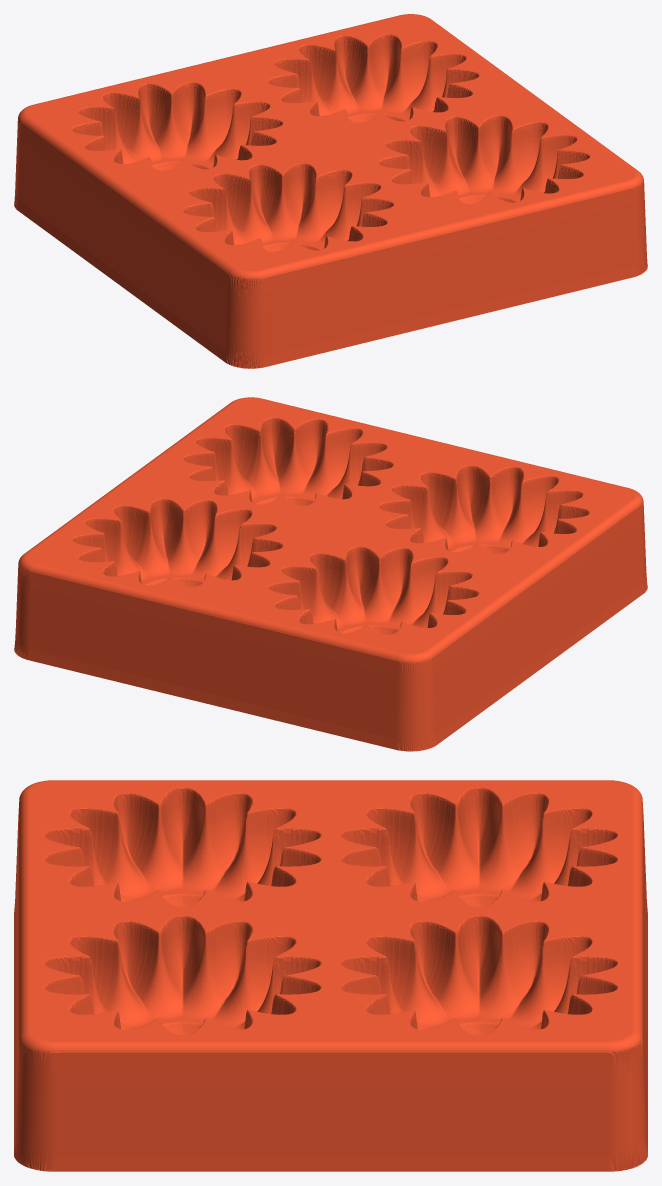
File: mold.glb
The picture shows the model from 3 angles, top to bottom: view 1: azimuth 30°, elevation 25°; view 2: azimuth 150°, elevation 25°; view 3: azimuth 270°, elevation 25°; orthographic projection. The views are drawn at different scales.
Visible parts, largest first — view 1: geometry_0; view 2: geometry_0; view 3: geometry_0.
Boxes of the visible parts, bbox=[...] form: geometry_0: bbox=[14, 14, 647, 368]; geometry_0: bbox=[14, 397, 647, 751]; geometry_0: bbox=[14, 780, 647, 1171].
Bounding box in the file's own units: 0.1466 × 0.031 × 0.1437.
